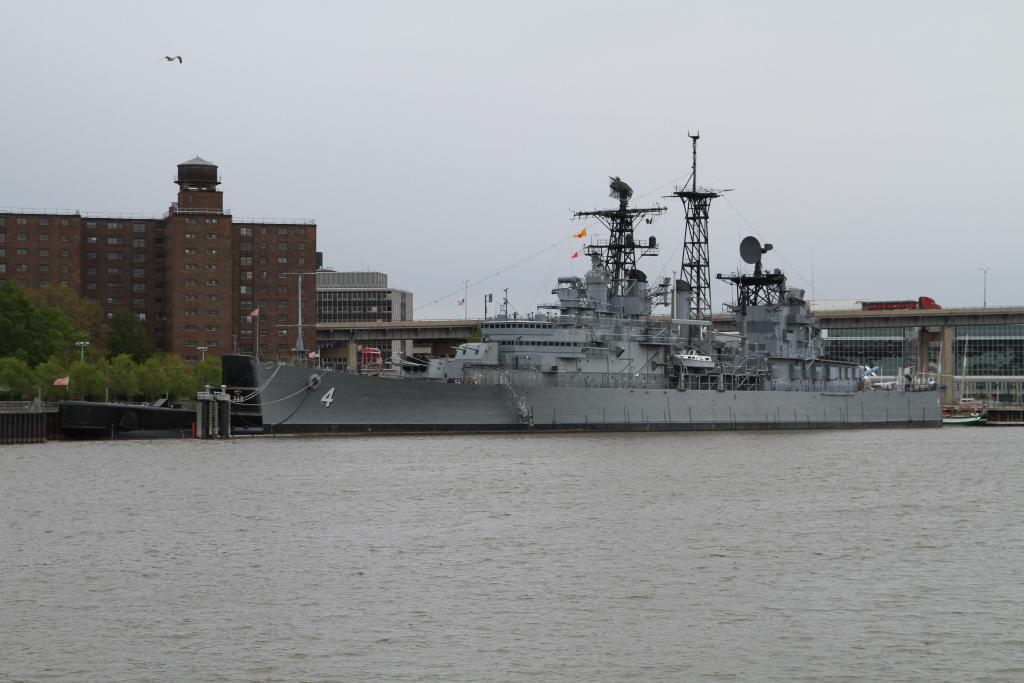Warship: (240, 138, 948, 430)
